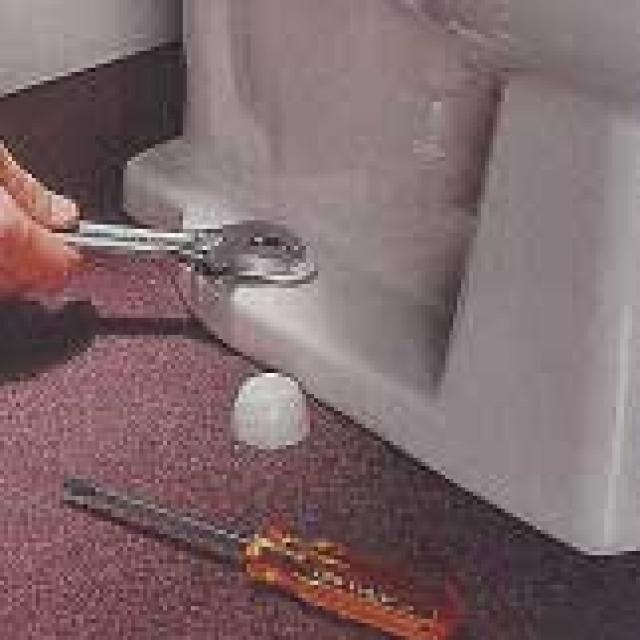screwdriver: (59, 464, 502, 640)
wrench: (35, 204, 316, 290)
